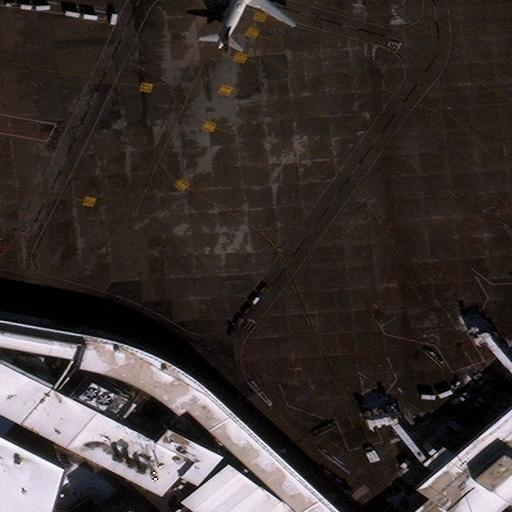Medium Civil Transport: (184, 0, 295, 48)
